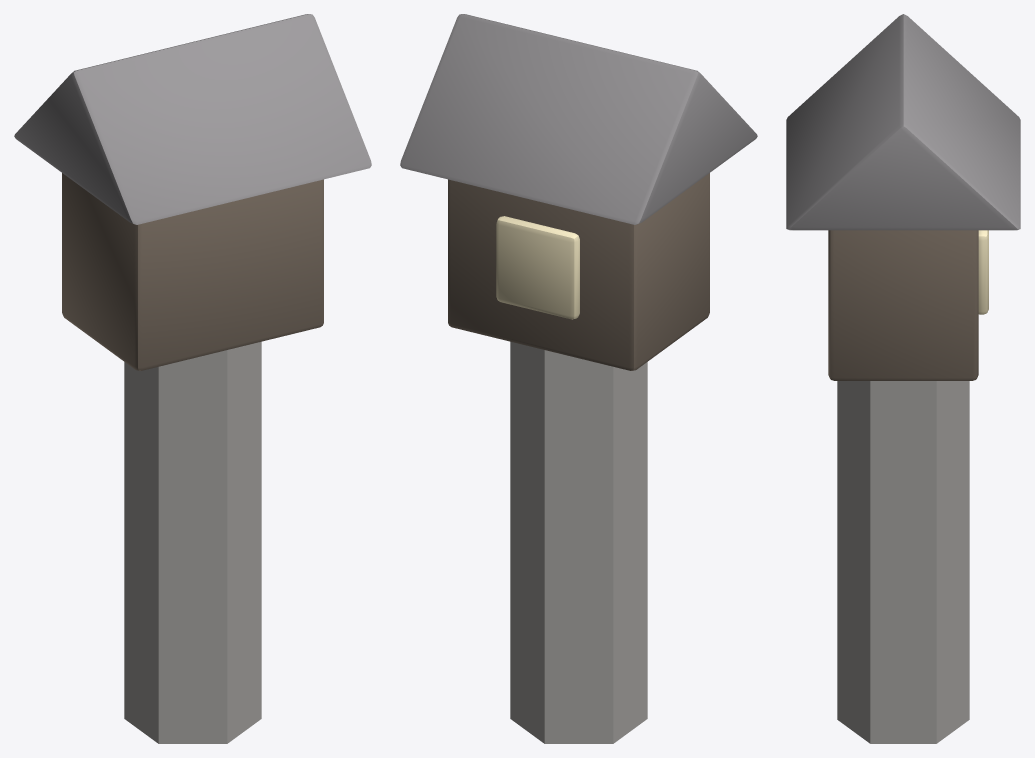
The model's file is shrine.gltf.
The picture shows the model from 3 angles, left to right: view 1: azimuth 30°, elevation 25°; view 2: azimuth 150°, elevation 25°; view 3: azimuth 270°, elevation 25°; orthographic projection. The views are drawn at different scales.
Visible parts, largest first — view 1: Body; view 2: Body; view 3: Body.
Part boxes in pixels (<box>): Body: <box>14,14,371,743</box>; Body: <box>400,14,757,743</box>; Body: <box>786,14,1020,743</box>.
Bounding box in the file's own units: 0.9 × 2.39 × 0.78.
